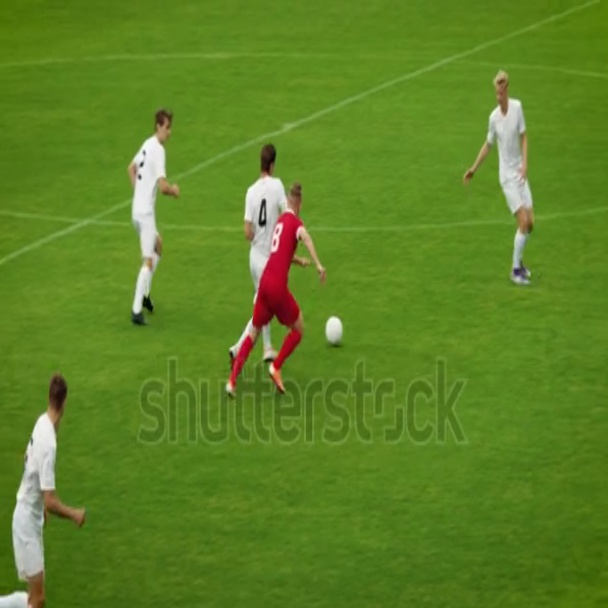ball: (327, 313, 345, 349)
